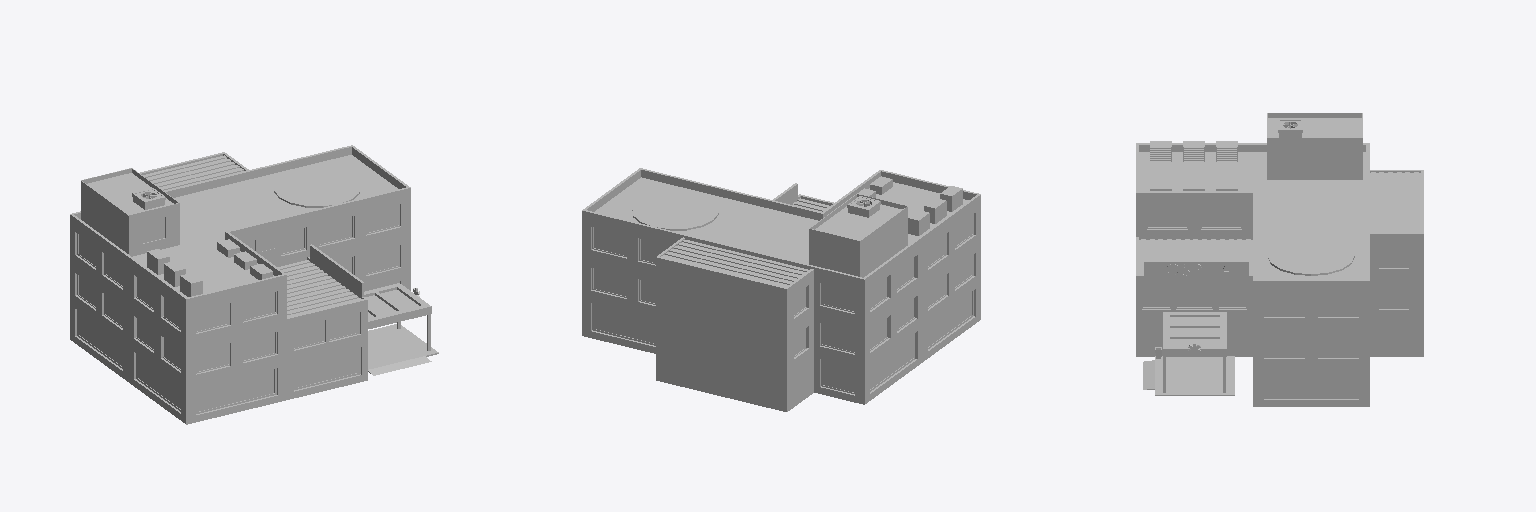
Rendered from Hospital.obj.
The picture shows the model from 3 angles: view 1: azimuth 30°, elevation 25°; view 2: azimuth 150°, elevation 25°; view 3: azimuth 270°, elevation 25°; orthographic projection.
Parts seen in each view (by area): view 1: Cube.055, vetri, Cube.025, Cube.036, Cube.058, Plane.014, Cylinder.019, frames, Cube.037, Plane.023, Plane.020, Cube.035 (+1 smaller); view 2: Cube.055, Cube.059, vetri, Cube.025, Cube.036, Plane.023, Cylinder.019, Cube.037, frames, Plane.020, Cube.058; view 3: Cube.055, Cube.025, vetri, Cube.059, Cube.058, Cube.036, Plane.023, Cylinder.019, Plane.014, Cube.037, frames, Plane.015 (+2 smaller).
Boxes of the visible parts, x1=… form: Cube.055: x1=70, y1=145, x2=410, y2=422; vetri: x1=79, y1=205, x2=418, y2=411; Cube.025: x1=133, y1=155, x2=397, y2=297; Cube.036: x1=81, y1=168, x2=179, y2=256; Cube.058: x1=70, y1=324, x2=438, y2=424; Plane.014: x1=278, y1=260, x2=361, y2=317; Cylinder.019: x1=274, y1=170, x2=359, y2=207; frames: x1=77, y1=205, x2=399, y2=413; Cube.037: x1=147, y1=239, x2=272, y2=296; Plane.023: x1=142, y1=155, x2=243, y2=190; Plane.020: x1=87, y1=173, x2=173, y2=214; Cube.035: x1=287, y1=244, x2=367, y2=321; Cube.055: x1=582, y1=168, x2=980, y2=402; Cube.059: x1=656, y1=237, x2=813, y2=409; vetri: x1=594, y1=215, x2=972, y2=392; Cube.025: x1=595, y1=177, x2=968, y2=263; Cube.036: x1=809, y1=194, x2=907, y2=277; Plane.023: x1=661, y1=240, x2=808, y2=286; Cylinder.019: x1=632, y1=193, x2=718, y2=230; Cube.037: x1=857, y1=176, x2=962, y2=235; frames: x1=592, y1=214, x2=973, y2=393; Plane.020: x1=815, y1=204, x2=902, y2=240; Cube.058: x1=582, y1=318, x2=980, y2=411; Cube.055: x1=1136, y1=143, x2=1369, y2=404; Cube.025: x1=1139, y1=152, x2=1365, y2=279; vetri: x1=1143, y1=151, x2=1407, y2=396; Cube.059: x1=1370, y1=170, x2=1423, y2=354; Cube.058: x1=1136, y1=355, x2=1423, y2=406; Cube.036: x1=1267, y1=113, x2=1362, y2=179; Plane.023: x1=1370, y1=172, x2=1420, y2=232; Cylinder.019: x1=1268, y1=238, x2=1354, y2=275; Plane.014: x1=1139, y1=239, x2=1252, y2=274; Cube.037: x1=1150, y1=141, x2=1237, y2=190; frames: x1=1142, y1=148, x2=1408, y2=398; Plane.015: x1=1163, y1=312, x2=1226, y2=356.
Size of the model in its own units: 2.8 by 1.55 by 2.46.